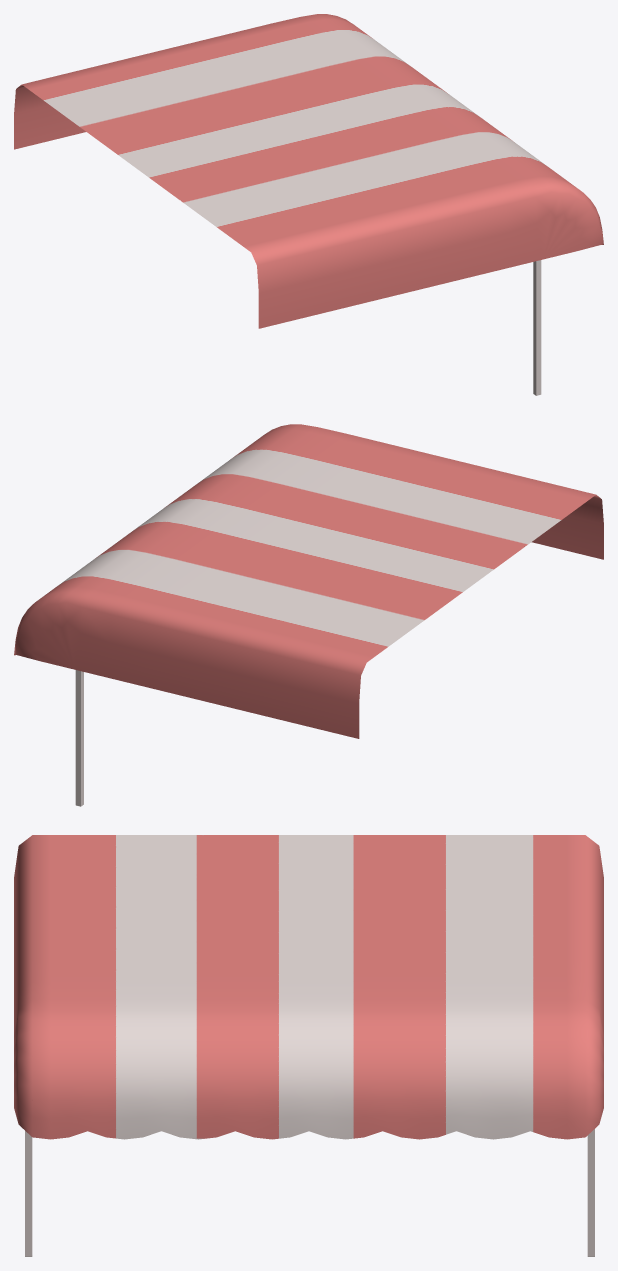
The model's file is Awning.fbx.
3 renders of one model, top to bottom at view 1: azimuth 30°, elevation 25°; view 2: azimuth 150°, elevation 25°; view 3: azimuth 270°, elevation 25°, orthographic. The views are drawn at different scales.
Parts seen in each view (by area): view 1: Awning; view 2: Awning; view 3: Awning.
Boxes of the visible parts, x1=… form: Awning: x1=14, y1=14, x2=603, y2=395; Awning: x1=14, y1=424, x2=603, y2=806; Awning: x1=14, y1=835, x2=603, y2=1256.
Bounding box in the file's own units: 1221 × 694 × 1467.
Materials: 1 (1 with a texture image).
